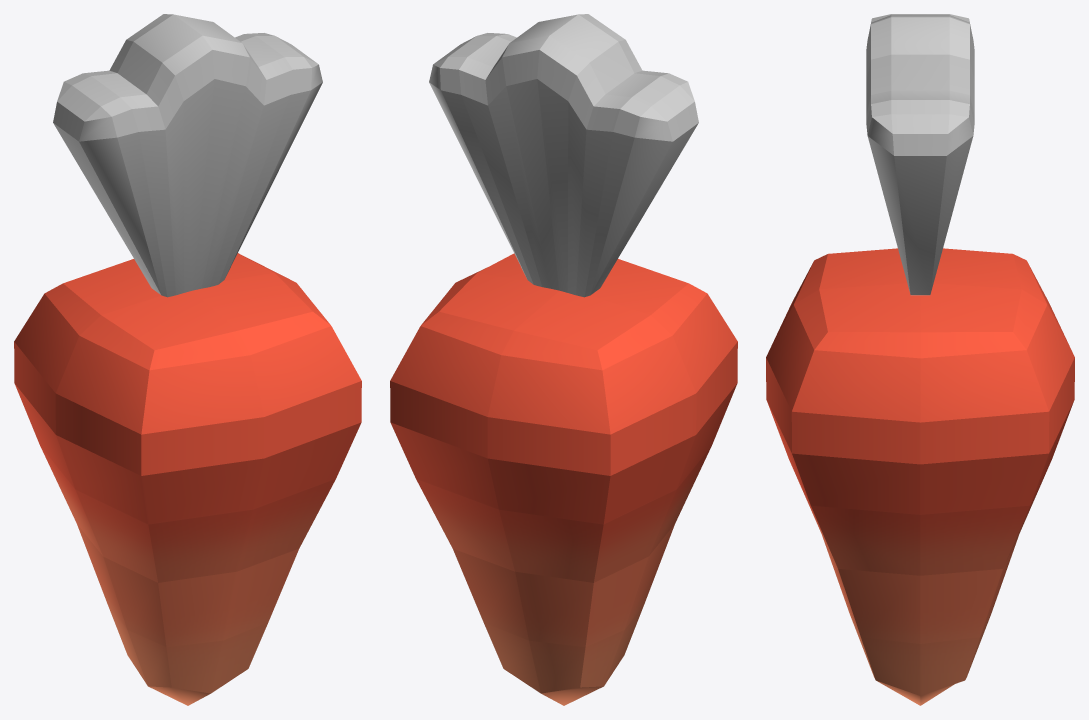
Rendered from Carrot.fbx.
The picture shows the model from 3 angles, left to right: view 1: azimuth 30°, elevation 25°; view 2: azimuth 150°, elevation 25°; view 3: azimuth 270°, elevation 25°; orthographic projection.
Visible parts, largest first — view 1: Carrot; view 2: Carrot; view 3: Carrot.
Part boxes in pixels (x1=…): Carrot: x1=14, y1=14, x2=361, y2=705; Carrot: x1=390, y1=14, x2=737, y2=705; Carrot: x1=766, y1=14, x2=1074, y2=705.
Size of the model in its own units: 132 by 325 by 132.
